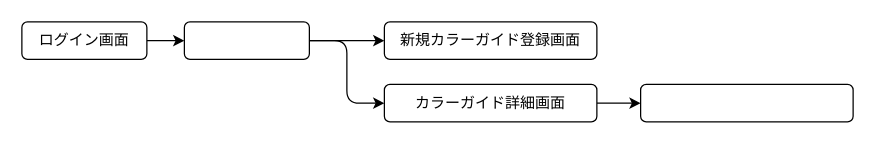
This 875x144 diagram has some shape labels left out. Each missing label, with the centre of its shape:
"カラーガイド編集画面" belongs at (x=746, y=102).
"投稿一覧画面" belongs at (x=246, y=40).
